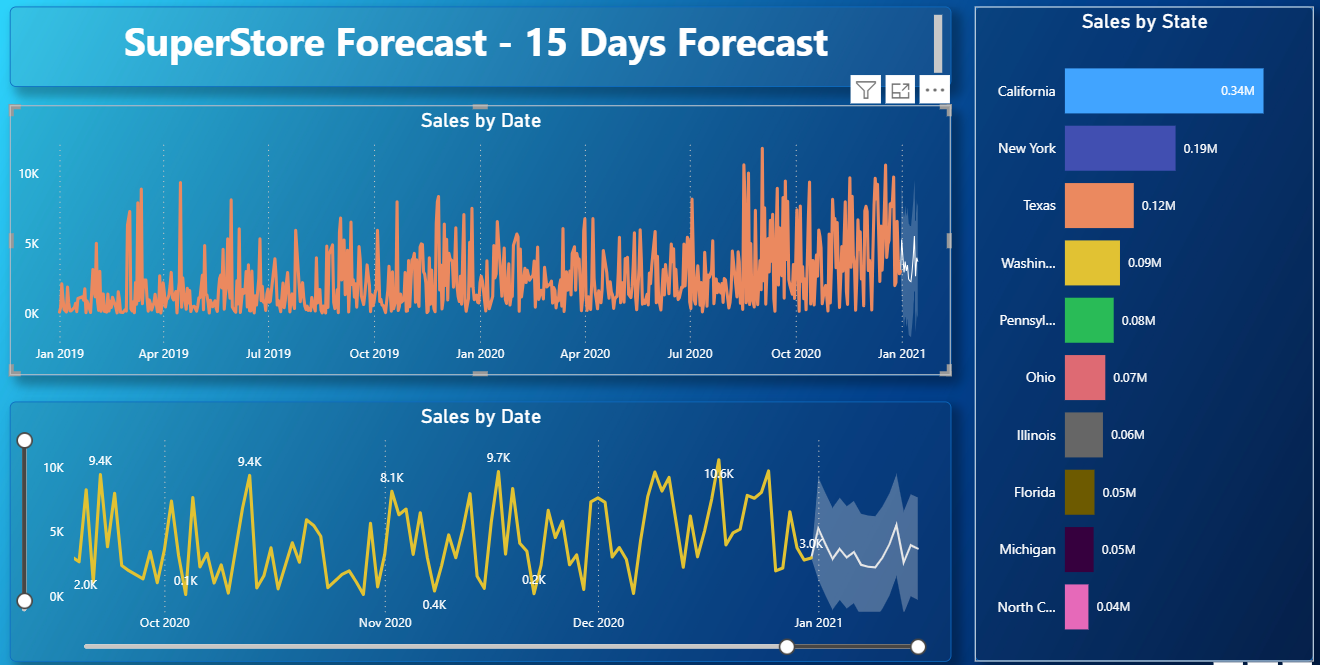

Layout of this report page (visuals, bound fields, positions):
{"tool":"powerbi","page":{"name":"Page 2","canvas":[1280,720],"ordinal":1},"visuals":[{"type":"lineChart","title":"Sales by Date","fields":{"Y":["Sum(SuperStore_Sales_Dataset (2).Sales)"],"Category":["SuperStore_Sales_Dataset (2).Updated Order date"]},"box":[13.3,112.2,908.4,260.6],"z":0},{"type":"lineChart","title":"Sales by Date","fields":{"Y":["Sum(SuperStore_Sales_Dataset (2).Sales)"],"Category":["SuperStore_Sales_Dataset (2).Updated Order date"]},"box":[13.3,398.1,908.4,250.9],"z":1000},{"type":"barChart","title":"Sales by State","fields":{"Category":["SuperStore_Sales_Dataset (2).State"],"Y":["Sum(SuperStore_Sales_Dataset (2).Sales)"]},"box":[944.6,16.9,326.9,632.2],"z":2000},{"type":"textbox","box":[13.3,16.9,908.4,77.2],"z":3000}]}

Visuals, with their boxes on the page's 1280x720 design canvas (x1, y1, x2, y2). These are canvas units, not pixel positions in the 1320x665 screenshot, which may show the page scaled, cropped or inside an application window:
"Sales by Date" lineChart: x1=13, y1=112, x2=922, y2=373
"Sales by Date" lineChart: x1=13, y1=398, x2=922, y2=649
"Sales by State" barChart: x1=945, y1=17, x2=1272, y2=649
textbox: x1=13, y1=17, x2=922, y2=94
